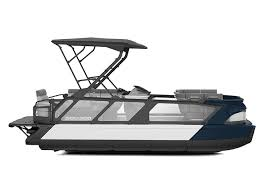boat: (8, 37, 254, 157)
